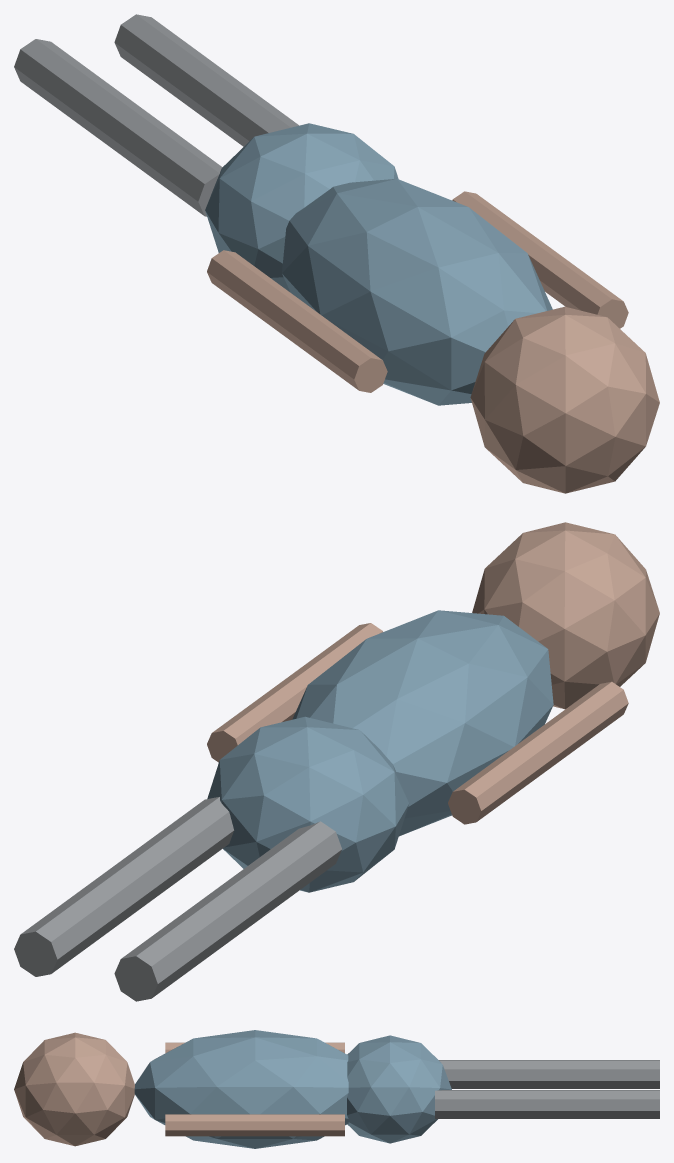
The model's file is adult-low.glb.
3 renders of one model, top to bottom at view 1: azimuth 30°, elevation 25°; view 2: azimuth 150°, elevation 25°; view 3: azimuth 270°, elevation 25°, orthographic. The views are drawn at different scales.
Visible parts, largest first — view 1: torso, head, pelvis, left_leg, right_leg, left_arm, right_arm; view 2: torso, pelvis, head, left_leg, right_leg, left_arm, right_arm; view 3: torso, head, pelvis, right_leg, left_leg, right_arm, left_arm.
Boxes of the visible parts, x1,y1,x2,y2 form: torso: (282, 178, 552, 405); head: (470, 306, 659, 493); pelvis: (205, 123, 398, 292); left_leg: (14, 39, 222, 216); right_leg: (114, 14, 298, 146); left_arm: (207, 250, 387, 392); right_arm: (452, 191, 628, 328); torso: (292, 610, 553, 836); pelvis: (207, 716, 409, 892); head: (472, 522, 659, 709); left_leg: (114, 821, 342, 1001); right_leg: (14, 797, 234, 976); left_arm: (448, 681, 628, 824); right_arm: (207, 623, 382, 762); torso: (134, 1030, 348, 1148); head: (14, 1032, 134, 1146); pelvis: (347, 1035, 451, 1143); right_leg: (435, 1090, 659, 1118); left_leg: (439, 1060, 659, 1088); right_arm: (165, 1114, 344, 1136); left_arm: (165, 1042, 344, 1053).
Bounding box in the file's own units: 1.07 × 0.6336 × 3.56.
